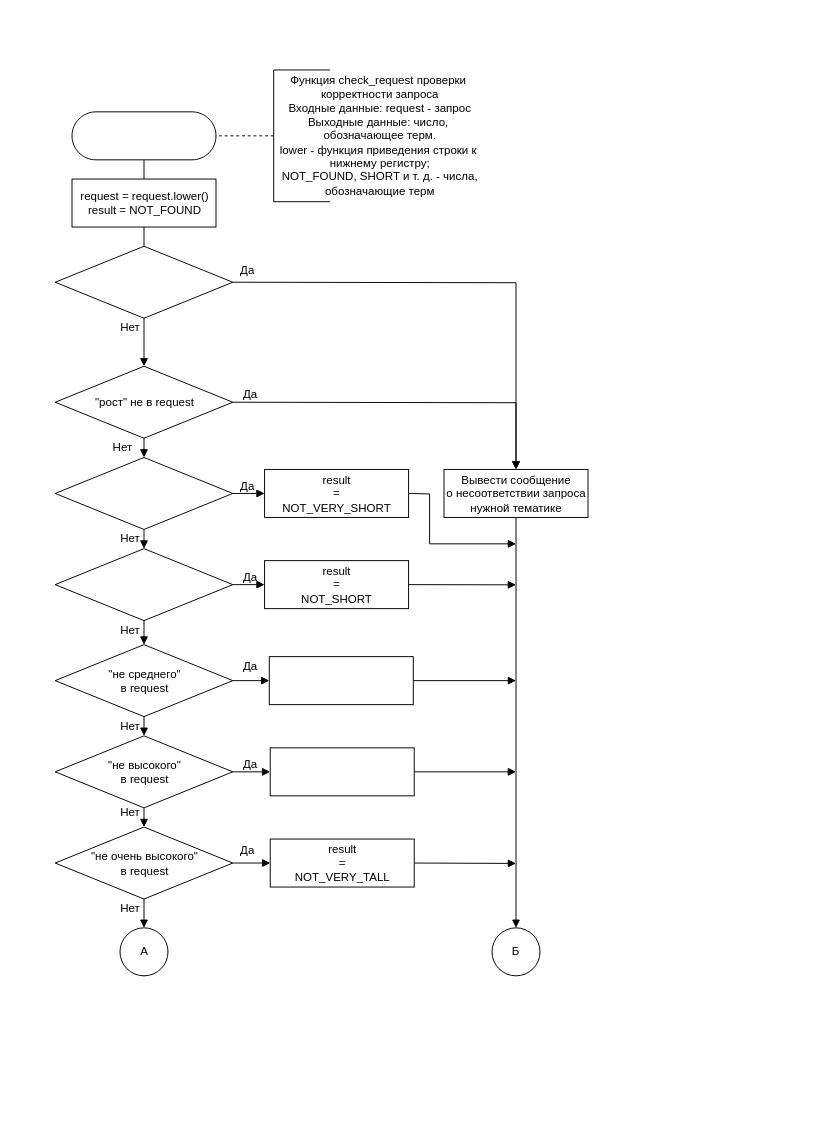
The diagram is 820 pixels wide and 1146 high, and some of its shapes have lost their labels. The box of each missing label's shape, as (x1, y1, x2, y2) in pixels:
"не низкого" в request: (54, 548, 233, 621)
"не очень низкого" в request: (54, 456, 233, 529)
result = NOT_AVERAGE: (268, 656, 413, 705)
result = NOT_TALL: (269, 747, 414, 796)
И "люди", и "людей", и "человек" не в request: (54, 245, 233, 318)
Начало: (71, 111, 216, 160)
